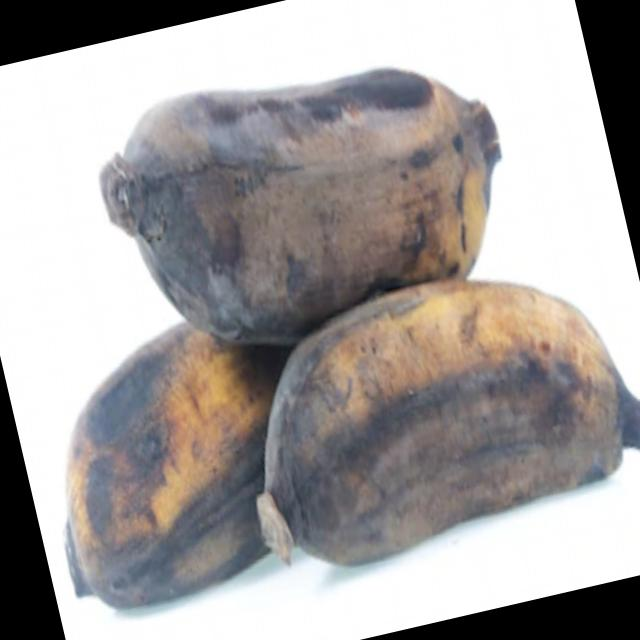rotten-banana: (228, 248, 640, 599), (85, 28, 519, 353), (23, 320, 292, 632)
